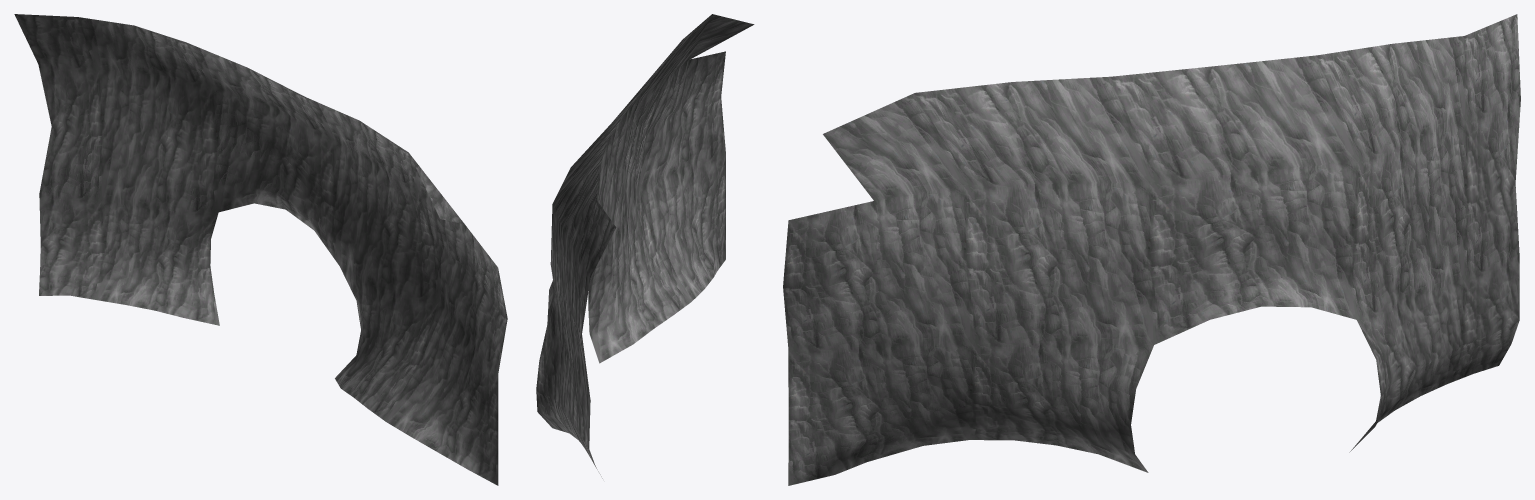
File: SWORDLIGHT20_PS-AREA04_19.fbx
The picture shows the model from 3 angles, left to right: view 1: azimuth 30°, elevation 25°; view 2: azimuth 150°, elevation 25°; view 3: azimuth 270°, elevation 25°; orthographic projection. The views are drawn at different scales.
Visible parts, largest first — view 1: SWORDLIGHT20_PS-AREA04_19; view 2: SWORDLIGHT20_PS-AREA04_19; view 3: SWORDLIGHT20_PS-AREA04_19.
Part boxes in pixels (box(x1,y1,x2,y2)): SWORDLIGHT20_PS-AREA04_19: box(14, 14, 507, 485); SWORDLIGHT20_PS-AREA04_19: box(536, 14, 754, 478); SWORDLIGHT20_PS-AREA04_19: box(783, 14, 1520, 485).
Bounding box in the file's own units: 69661 × 102675 × 182432.
Materials: 1 (1 with a texture image).
